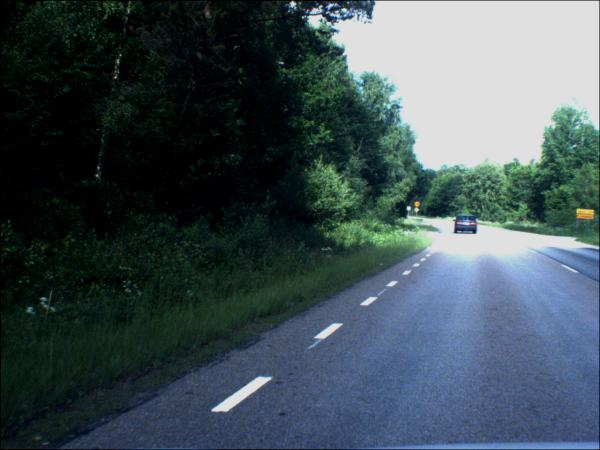80_SIGN: (414, 203, 421, 209)
PRIORITY_ROAD: (414, 209, 420, 214)
